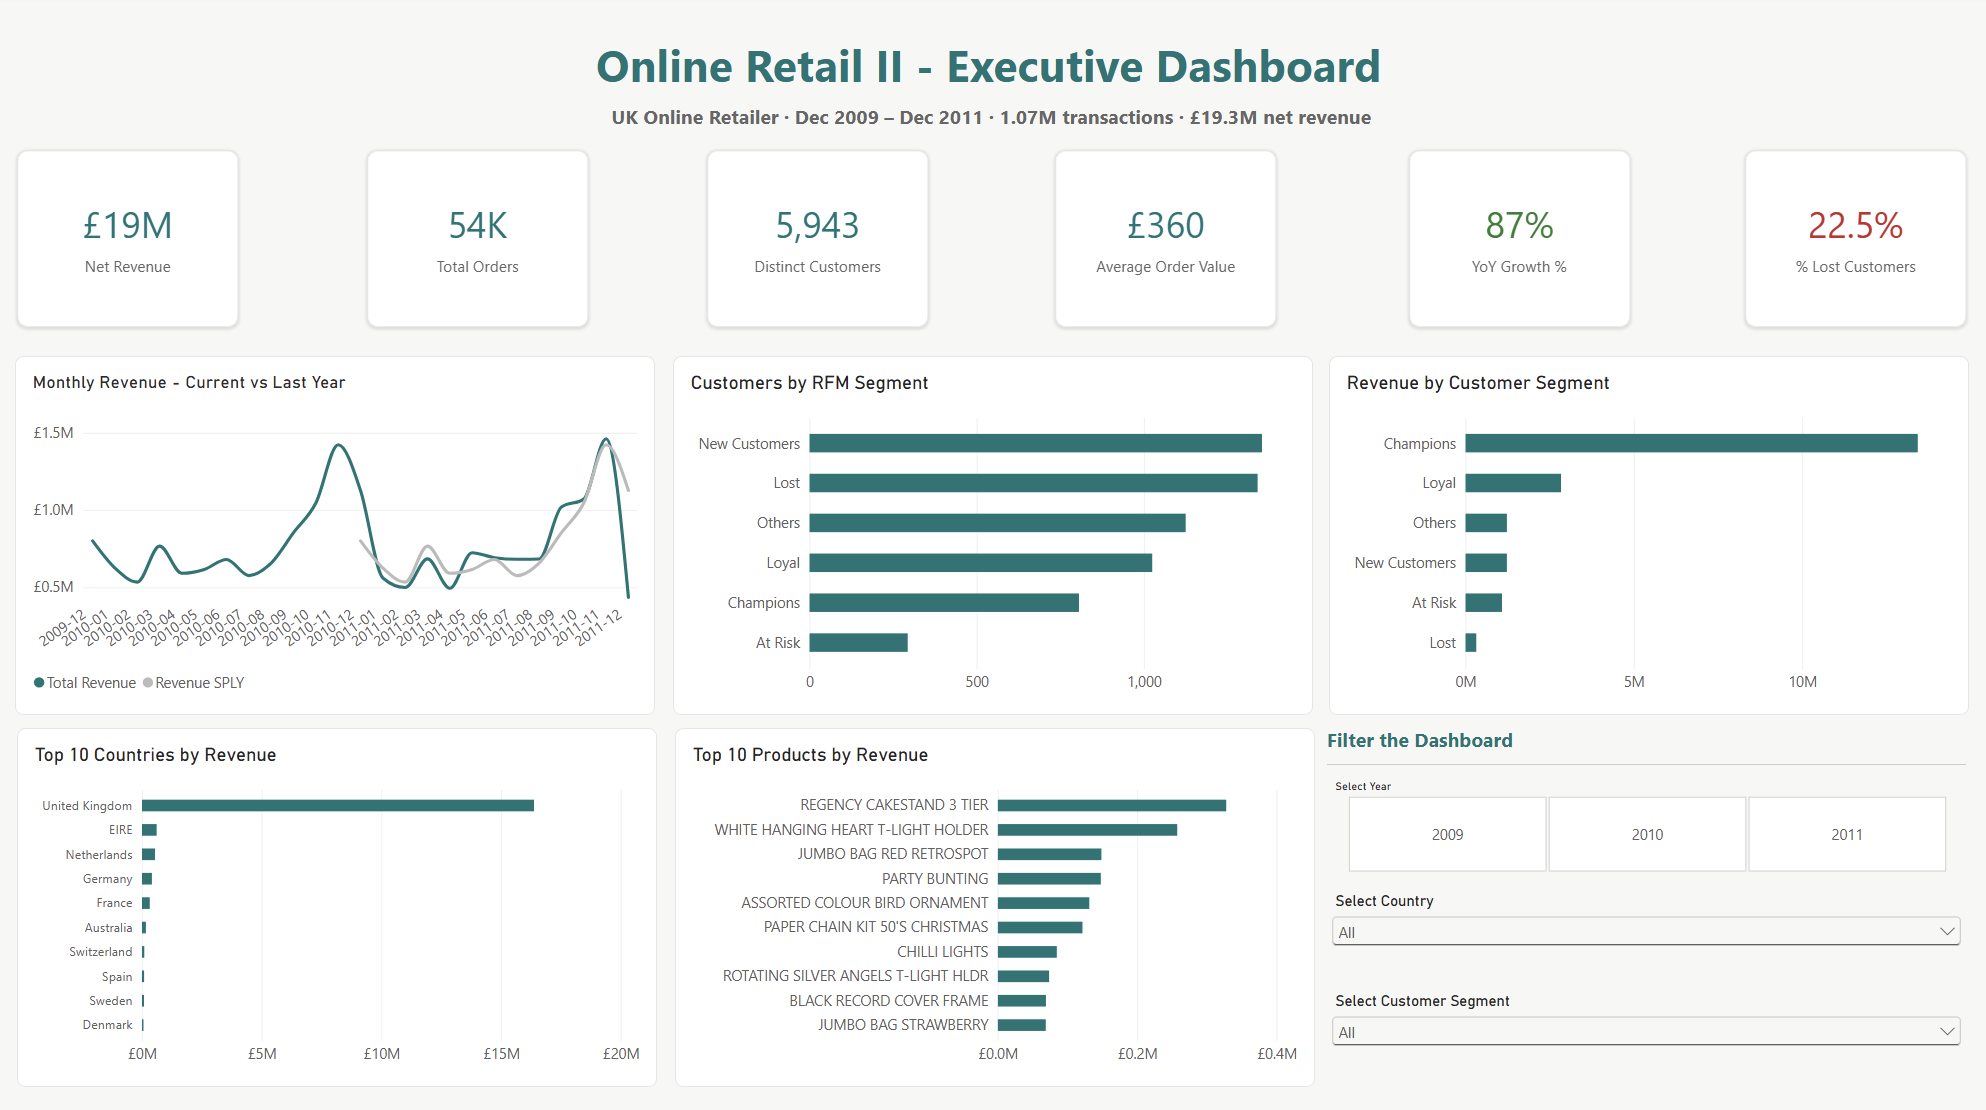

Layout of this report page (visuals, bound fields, positions):
{"tool":"powerbi","page":{"name":"Page 1","canvas":[1920,1080],"ordinal":0},"visuals":[{"type":"textbox","box":[0,0,1920,150.8],"z":0},{"type":"advanceCardE03760C5AB684758B56AA29F9E6C257B","fields":{"mainMeasure":["_Measures.Net Revenue"]},"box":[20.9,151.2,212.8,170.7],"z":1000},{"type":"advanceCardE03760C5AB684758B56AA29F9E6C257B","fields":{"mainMeasure":["_Measures.Total Orders"]},"box":[358.1,151.2,212.8,170.7],"z":2000},{"type":"advanceCardE03760C5AB684758B56AA29F9E6C257B","fields":{"mainMeasure":["_Measures.Distinct Customers"]},"box":[683.7,151.2,212.8,170.7],"z":3000},{"type":"advanceCardE03760C5AB684758B56AA29F9E6C257B","fields":{"mainMeasure":["_Measures.Average Order Value"]},"box":[1018.6,151.2,212.8,170.7],"z":4000},{"type":"advanceCardE03760C5AB684758B56AA29F9E6C257B","fields":{"mainMeasure":["_Measures.YoY Growth %"]},"box":[1358.1,151.2,212.8,170.7],"z":5000},{"type":"advanceCardE03760C5AB684758B56AA29F9E6C257B","fields":{"mainMeasure":["_Measures.% Lost Customers"]},"box":[1681.4,151.2,212.8,170.7],"z":6000},{"type":"lineChart","title":"Monthly Revenue - Current vs Last Year","fields":{"Category":["DateTable.YearMonth"],"Y":["_Measures.Total Revenue","_Measures.Revenue SPLY"]},"box":[20,350,615,345],"z":7000},{"type":"barChart","title":"Customers by RFM Segment","fields":{"Category":["CustomerRFM.Segment"],"Y":["CountNonNull(CustomerRFM.Customer ID)"]},"box":[650.7,350,615,345],"z":8000},{"type":"barChart","title":"Top 10 Countries by Revenue","fields":{"Category":["Transactions.Country"],"Y":["_Measures.Net Revenue"]},"box":[20.9,707,615,345],"z":9000},{"type":"barChart","title":"Top 10 Products by Revenue","fields":{"Category":["Transactions.Description"],"Y":["_Measures.Net Revenue"]},"box":[653.5,707,615,345],"z":10000},{"type":"slicer","fields":{"Values":["DateTable.Year"]},"box":[1280.2,757,614,90],"z":11000},{"type":"slicer","fields":{"Values":["Transactions.Country"]},"box":[1280.2,864,614,88],"z":12000},{"type":"slicer","fields":{"Values":["CustomerRFM.Segment"]},"box":[1280.2,961.6,614,88.4],"z":13000},{"type":"textbox","box":[1280.2,705.8,181.4,25.6],"z":14000},{"type":"shape","box":[1280.2,729.1,614,27.9],"z":15000},{"type":"barChart","title":"Revenue by Customer Segment","fields":{"Category":["CustomerRFM.Segment"],"Y":["Sum(CustomerRFM.Monetary)"]},"box":[1281.4,350,615,345],"z":16000}]}

Visuals, with their boxes in screenshot pixels (x1, y1, x2, y2), scaled from the page's 1920x1080 canvas onto the 1986x1110 screenshot:
textbox: left=0, top=0, right=1985, bottom=155
advanceCardE03760C5AB684758B56AA29F9E6C257B - _Measures.Net Revenue: left=22, top=155, right=242, bottom=331
advanceCardE03760C5AB684758B56AA29F9E6C257B - _Measures.Total Orders: left=370, top=155, right=591, bottom=331
advanceCardE03760C5AB684758B56AA29F9E6C257B - _Measures.Distinct Customers: left=707, top=155, right=927, bottom=331
advanceCardE03760C5AB684758B56AA29F9E6C257B - _Measures.Average Order Value: left=1054, top=155, right=1274, bottom=331
advanceCardE03760C5AB684758B56AA29F9E6C257B - _Measures.YoY Growth %: left=1405, top=155, right=1625, bottom=331
advanceCardE03760C5AB684758B56AA29F9E6C257B - _Measures.% Lost Customers: left=1739, top=155, right=1959, bottom=331
"Monthly Revenue - Current vs Last Year" lineChart: left=21, top=360, right=657, bottom=714
"Customers by RFM Segment" barChart: left=673, top=360, right=1309, bottom=714
"Top 10 Countries by Revenue" barChart: left=22, top=727, right=658, bottom=1081
"Top 10 Products by Revenue" barChart: left=676, top=727, right=1312, bottom=1081
slicer - DateTable.Year: left=1324, top=778, right=1959, bottom=871
slicer - Transactions.Country: left=1324, top=888, right=1959, bottom=978
slicer - CustomerRFM.Segment: left=1324, top=988, right=1959, bottom=1079
textbox: left=1324, top=725, right=1512, bottom=752
shape: left=1324, top=749, right=1959, bottom=778
"Revenue by Customer Segment" barChart: left=1325, top=360, right=1962, bottom=714
